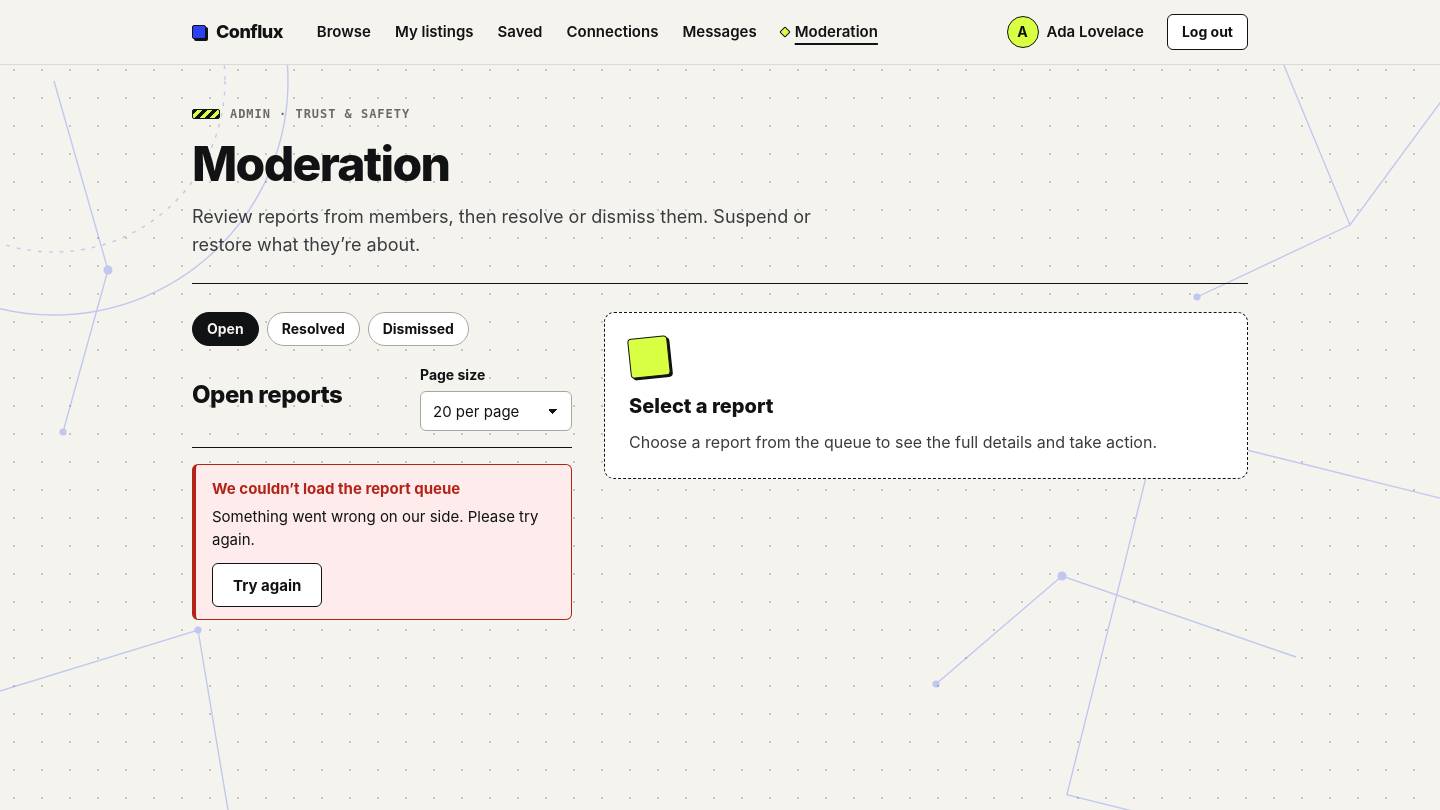
Test: Report queue › retries after a 500
Expected: the message that starts with "We couldn’t load the report queue" is shown, left=212, top=479, right=460, bottom=498
Expected: the message that starts with "We couldn’t load the report queue" shows "Something went wrong on our side. Please try again.", left=212, top=506, right=538, bottom=549
Click the button "Try again" at (267, 585), box left=212, top=563, right=322, bottom=607
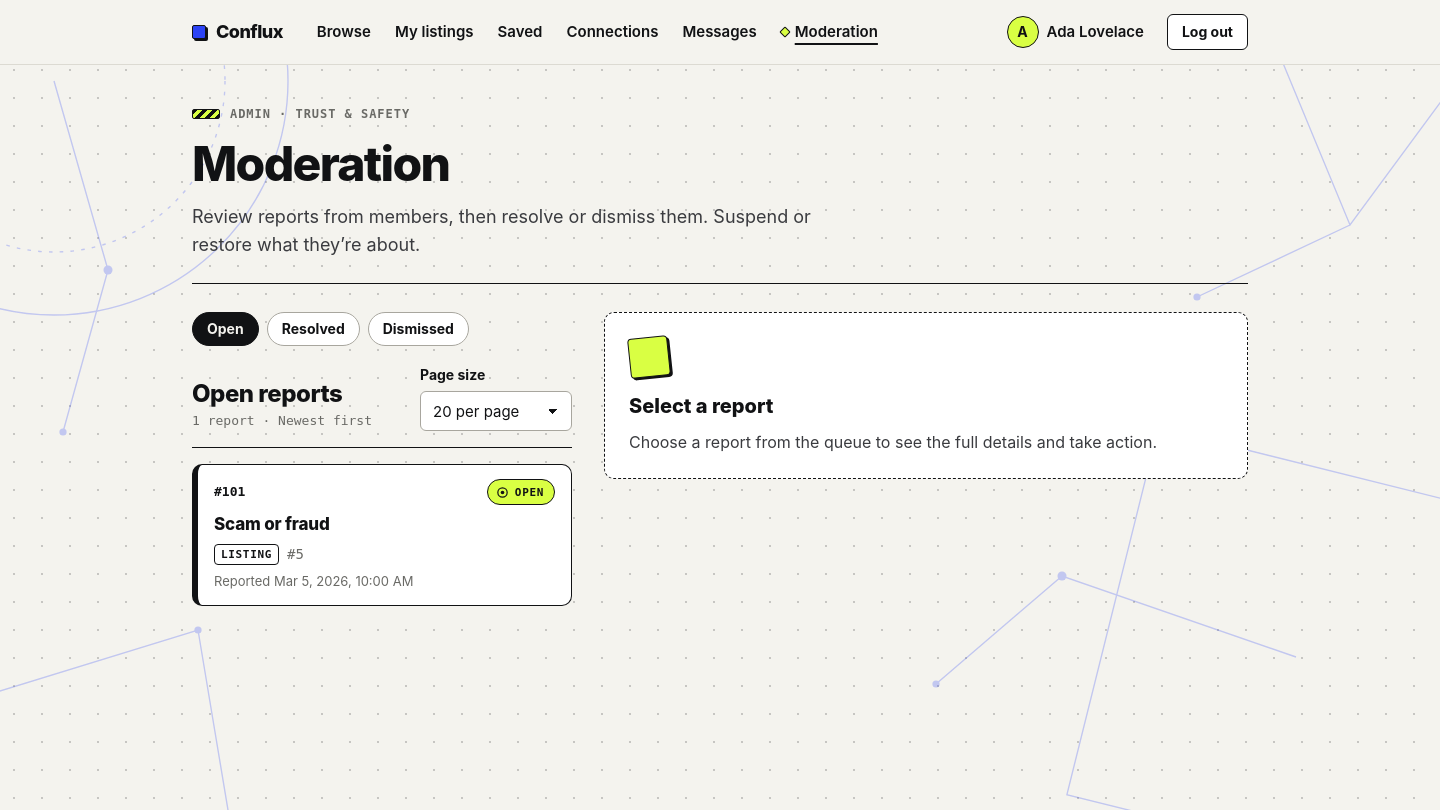
Result: the link with aria-label "Report #101" is shown at left=192, top=464, right=572, bottom=606
